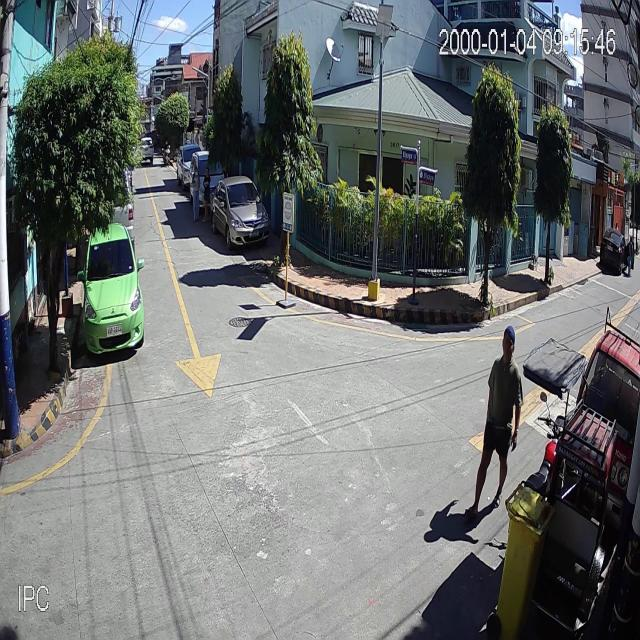walking: (468, 326, 522, 516)
